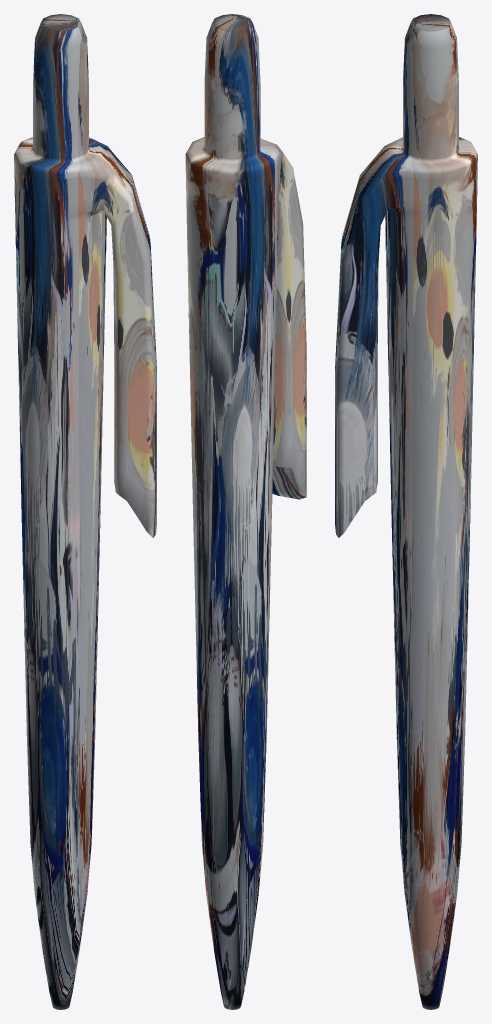
File: pen.fbx
3 views of the same model, side by side, from view 1: azimuth 90°, elevation 25°; view 2: azimuth 150°, elevation 25°; view 3: azimuth 270°, elevation 25° (orthographic).
Visible parts, largest first — view 1: pen; view 2: pen; view 3: pen.
Boxes of the visible parts, x1=… form: pen: x1=14, y1=14, x2=156, y2=1009; pen: x1=185, y1=14, x2=306, y2=1009; pen: x1=335, y1=14, x2=477, y2=1009.
Bounding box in the file's own units: 0.0129 × 0.147 × 0.0194.
